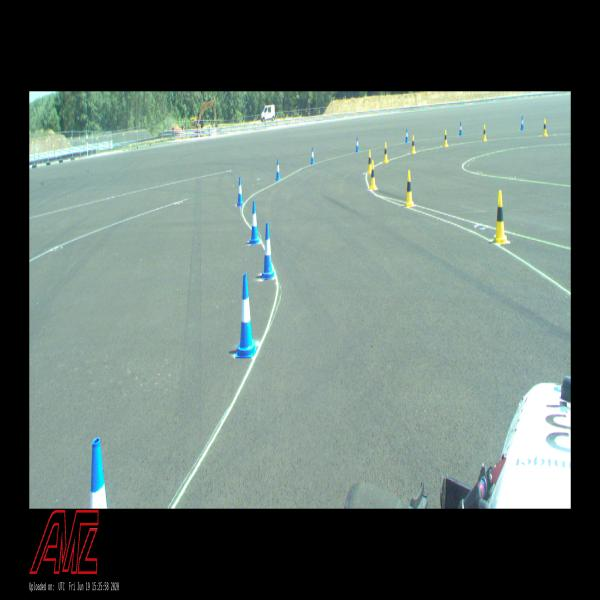blue_cone: (80, 438, 122, 508), (235, 273, 257, 359), (261, 223, 275, 279), (249, 202, 260, 245), (236, 177, 244, 206), (275, 159, 281, 181), (356, 137, 360, 153), (458, 121, 462, 136), (520, 115, 524, 130), (311, 147, 314, 164), (405, 128, 408, 143)
yellow_cone: (492, 190, 507, 244), (404, 170, 413, 208), (369, 161, 378, 191), (366, 151, 372, 174), (382, 142, 388, 163), (542, 118, 548, 137), (482, 125, 488, 142), (443, 129, 448, 148), (411, 136, 416, 154)
